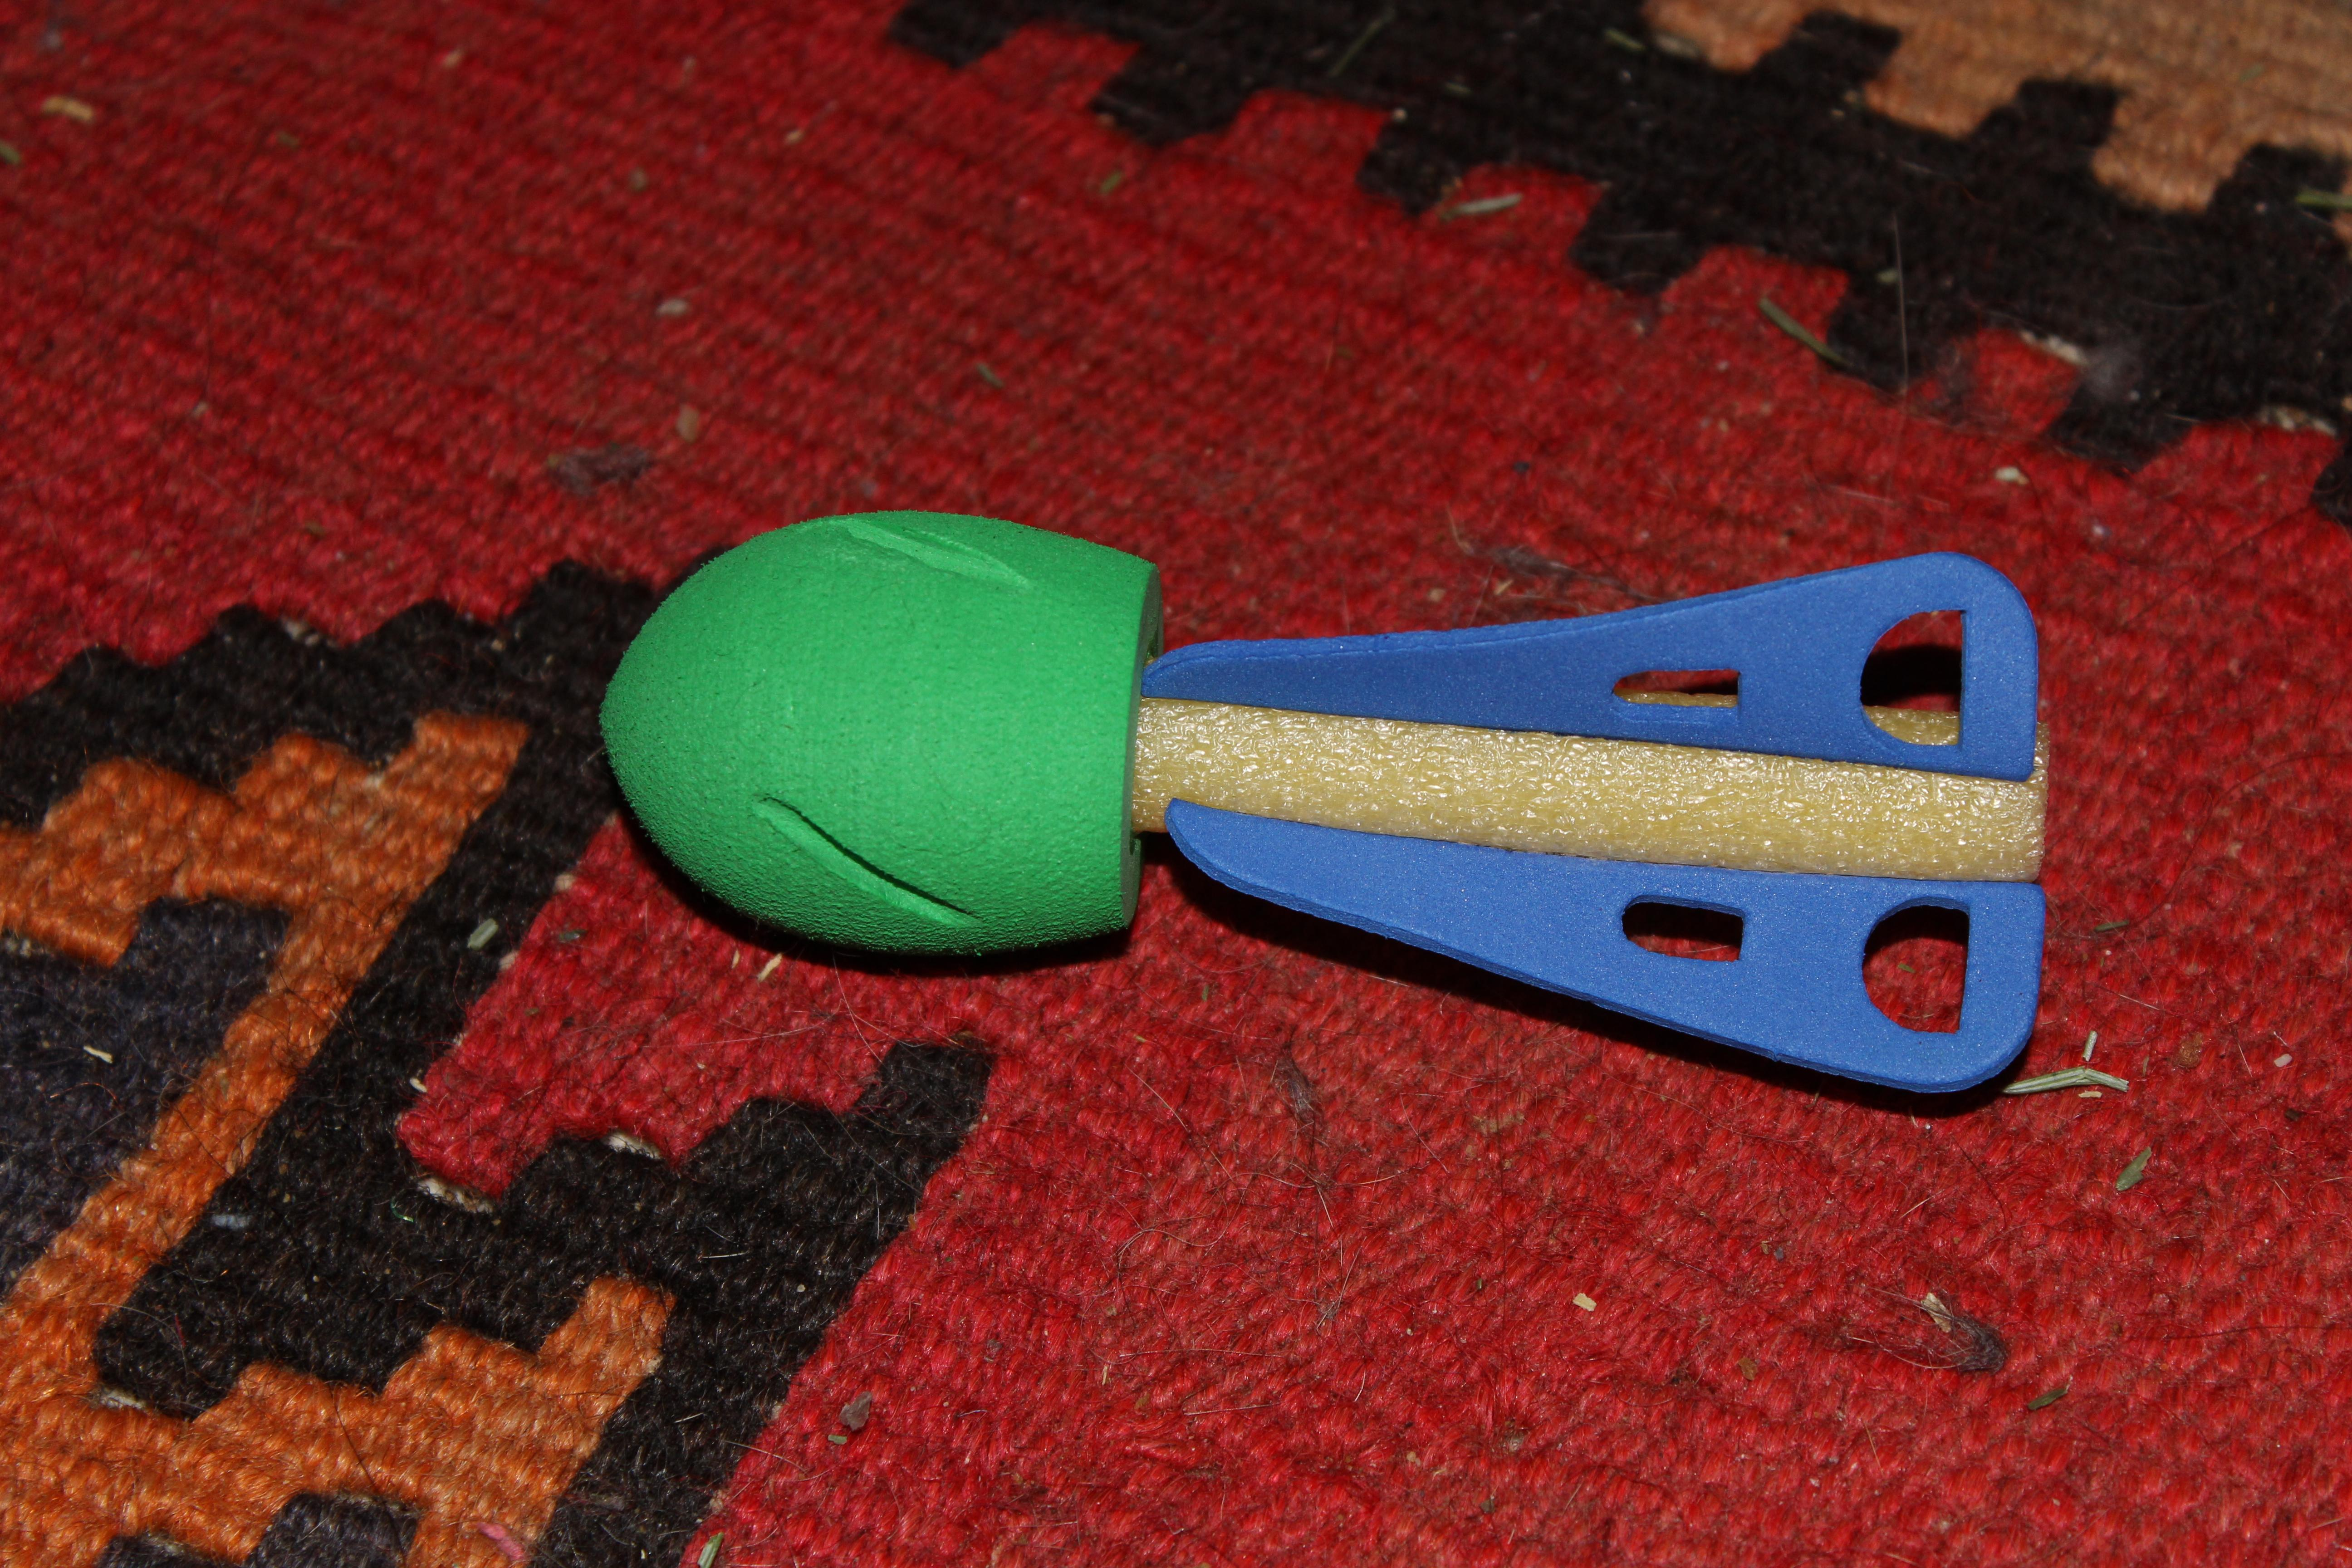foamDart: (584, 476, 2077, 1132)
